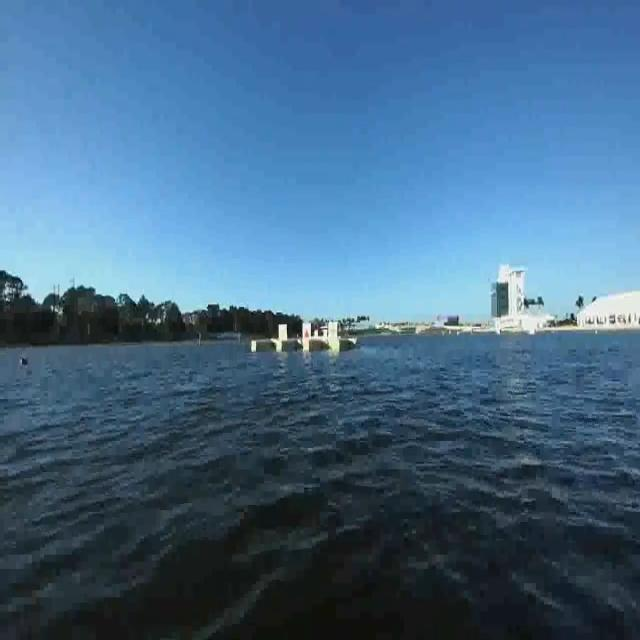red-dot: (303, 324, 312, 343)
